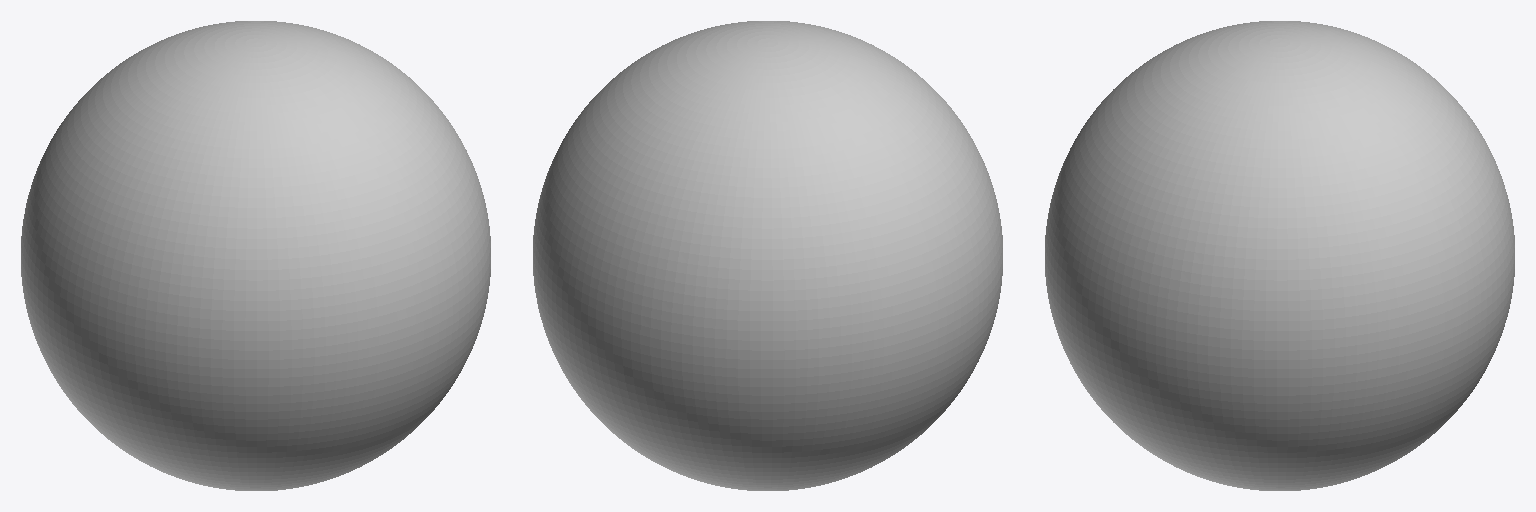
Rendered from EquiEsphere.obj.
3 views of the same model, side by side, from view 1: azimuth 30°, elevation 25°; view 2: azimuth 150°, elevation 25°; view 3: azimuth 270°, elevation 25° (orthographic).
Visible parts, largest first — view 1: Grid; view 2: Grid; view 3: Grid.
Boxes of the visible parts, x1,y1,x2,y2 form: Grid: [21, 21, 490, 490]; Grid: [533, 21, 1002, 490]; Grid: [1045, 21, 1514, 490].
Bounding box in the file's own units: 2 × 2 × 2.